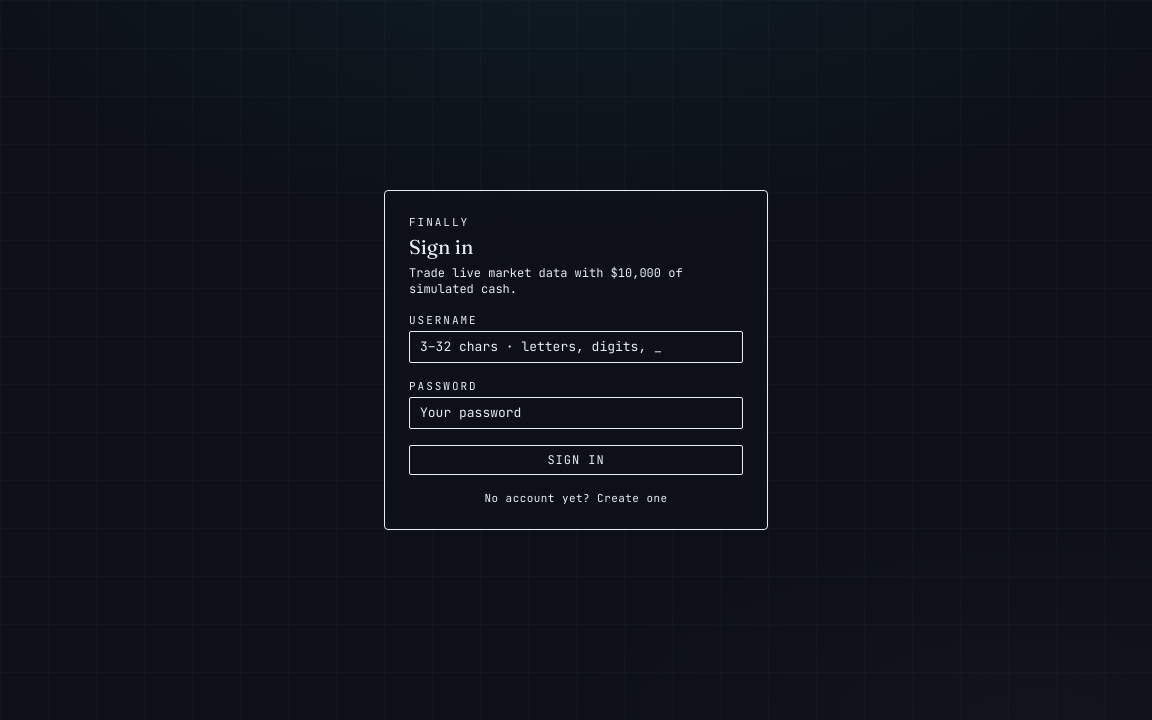
Test: LoginForm (via AuthGate) › shows the friendly invalid_credentials message on 401
The image size is (1152, 720).
Expected: the element with test id "login-form" is shown, top-left (384, 190), bottom-right (768, 530)
Type "alice" into the field with test id "auth-username" at coordinates (576, 347), box top-left (409, 331), bottom-right (743, 363)
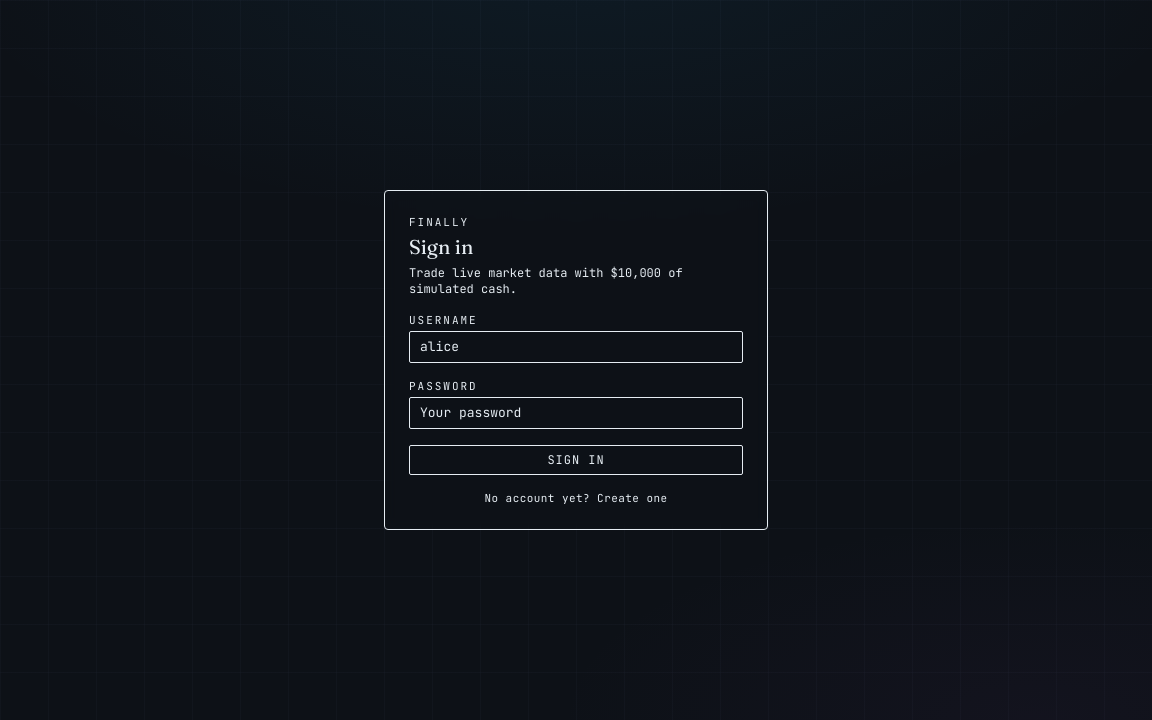
Type "wrong" into the password field with test id "auth-password" at coordinates (576, 413), box top-left (409, 397), bottom-right (743, 429)
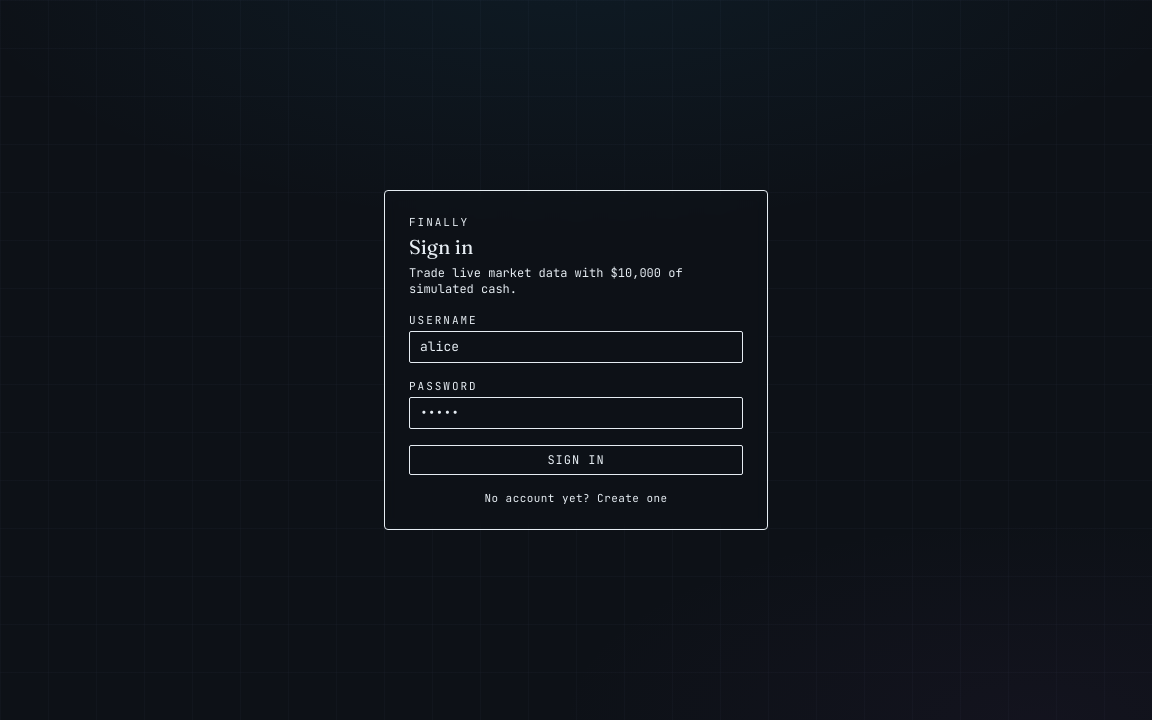
Click the button with test id "auth-submit" at coordinates (576, 460), box top-left (409, 445), bottom-right (743, 475)
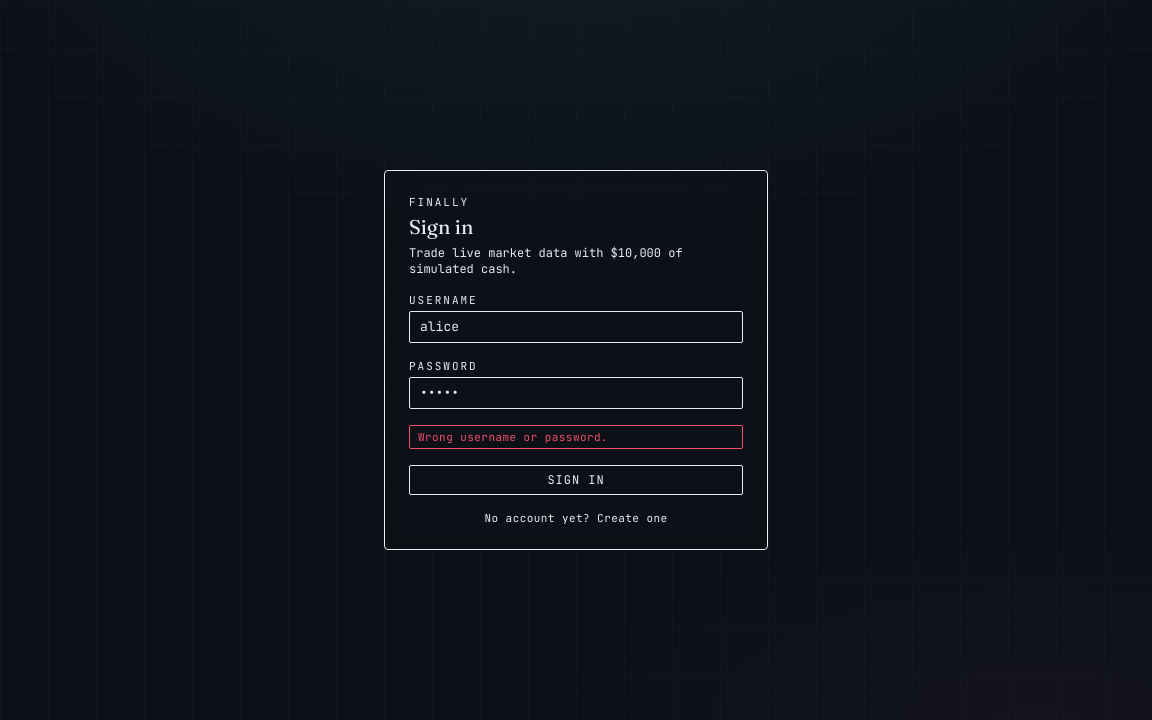
Expected: the message with test id "auth-error" shows "Wrong username or password", top-left (418, 430), bottom-right (608, 444)
